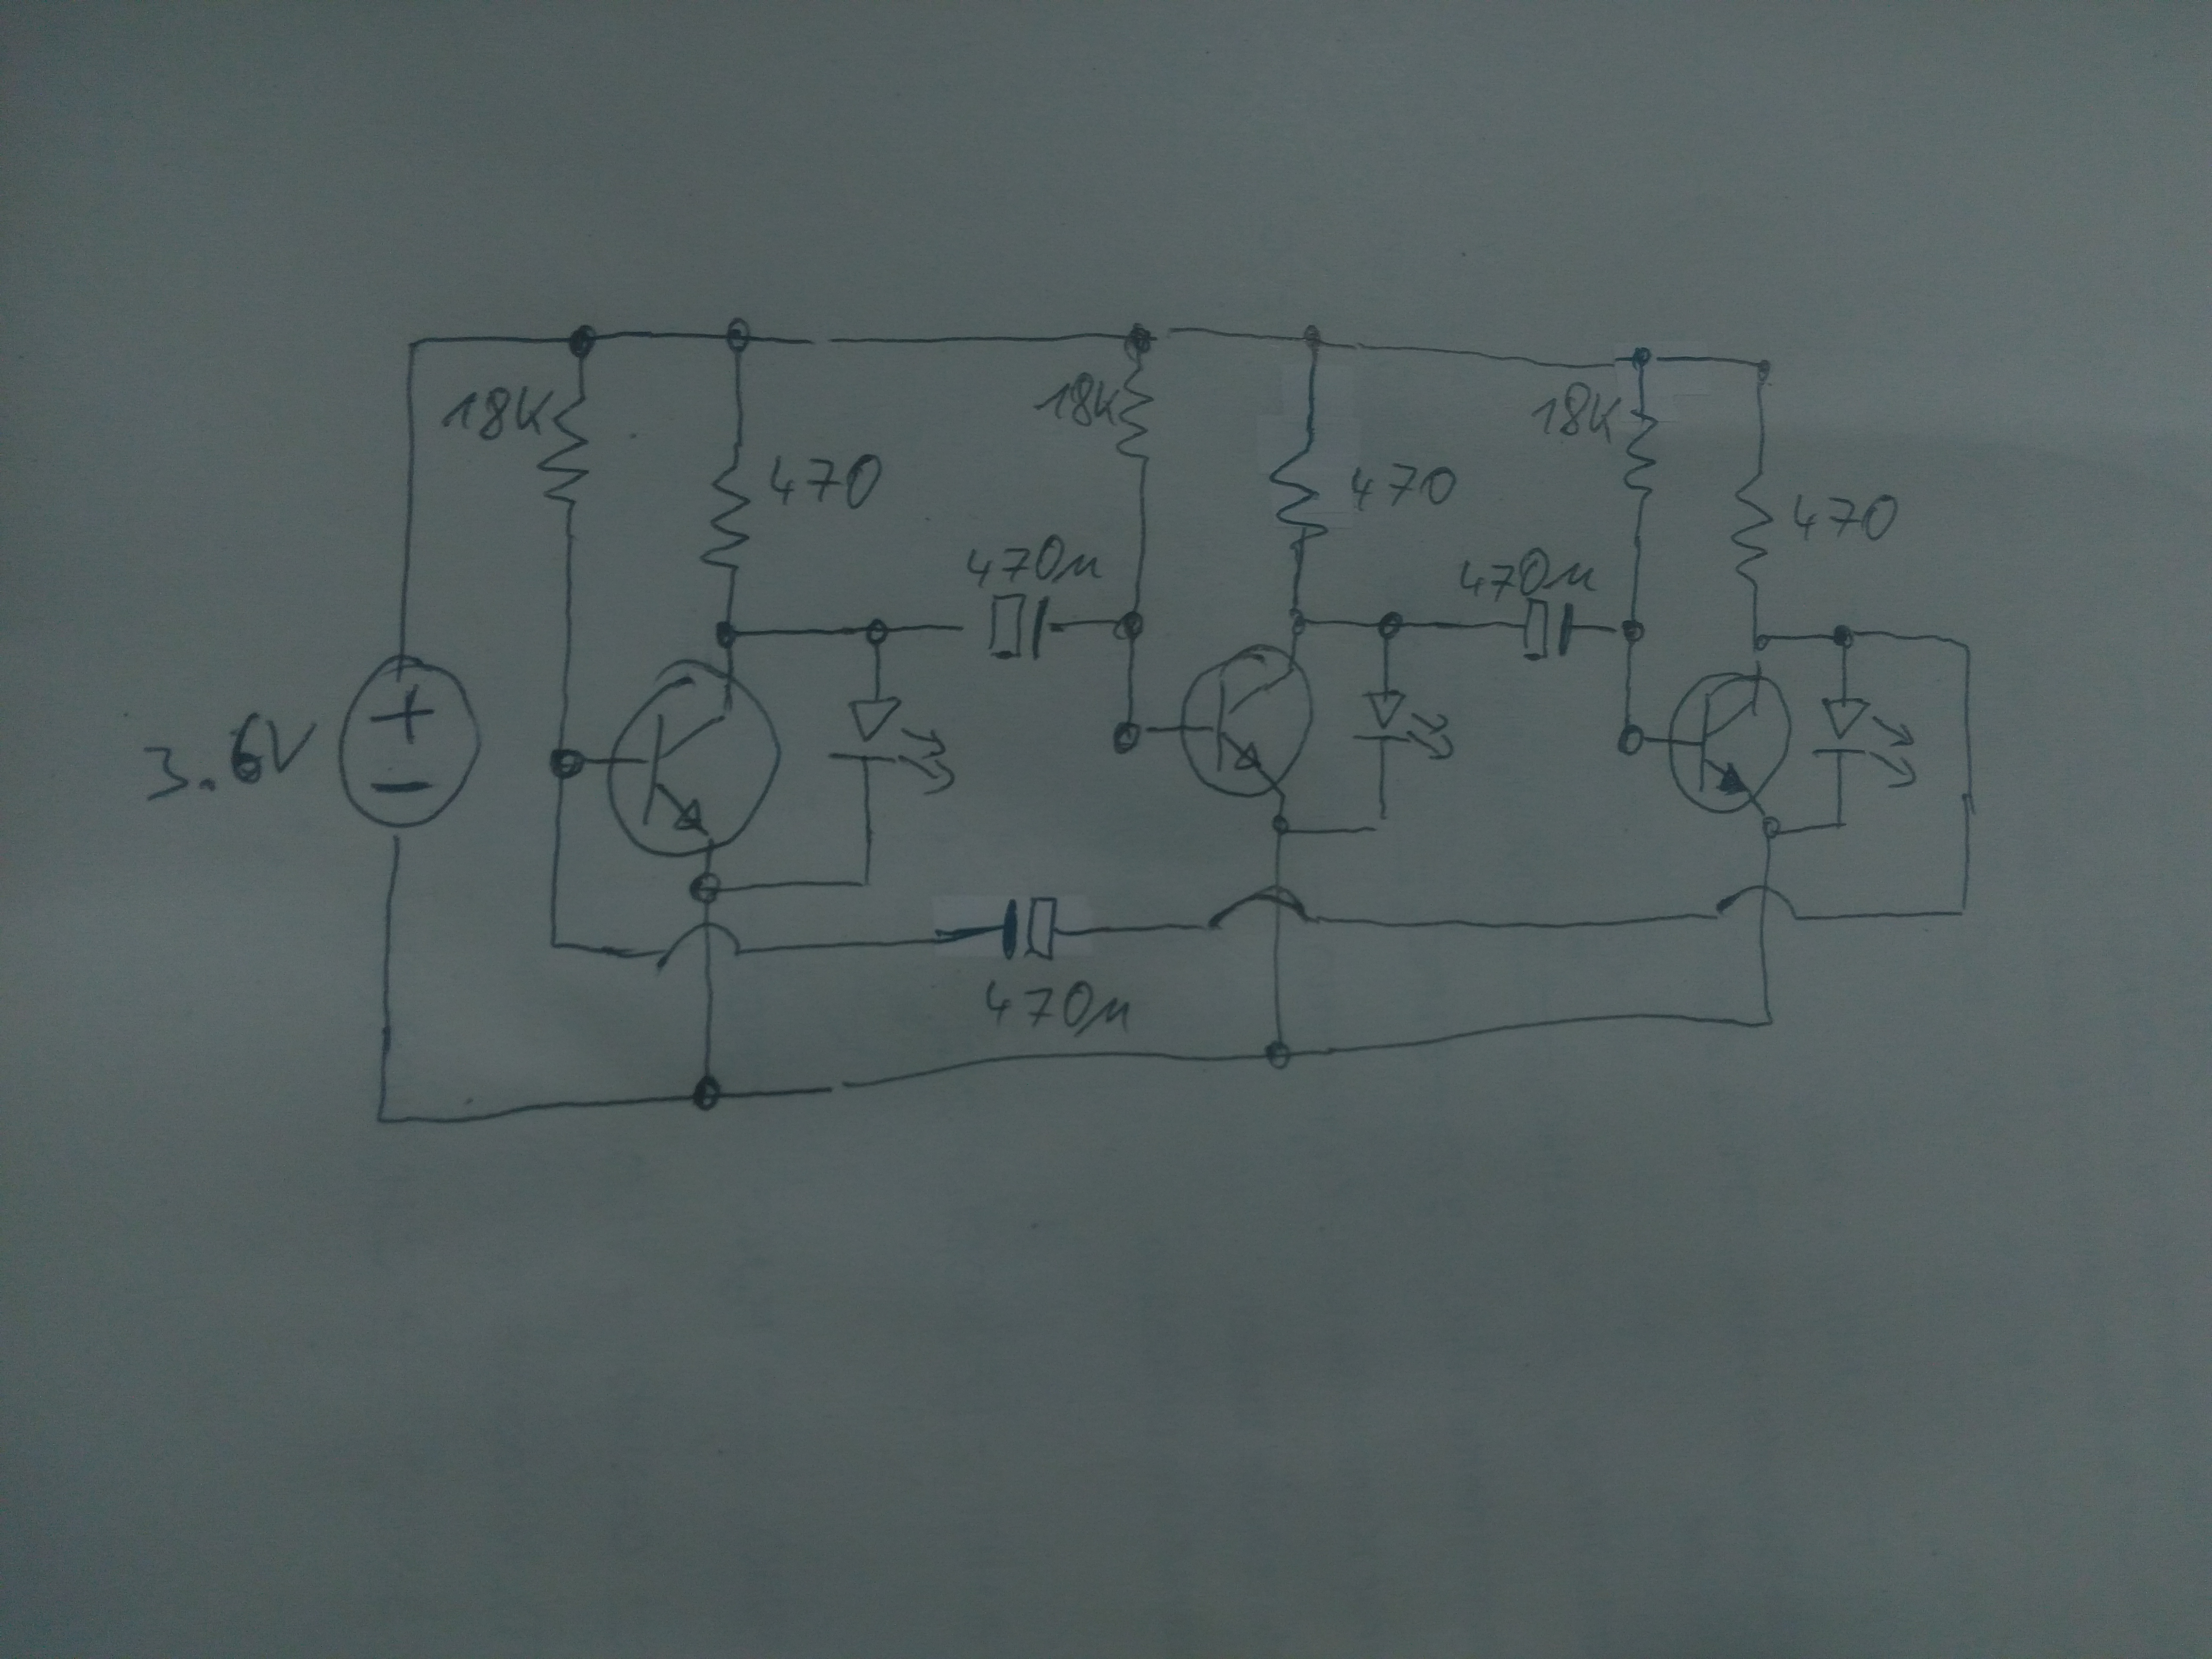capacitor.polarized: (984, 591, 1052, 664), (1000, 894, 1059, 965), (1519, 596, 1578, 666)
crossover: (1200, 878, 1317, 936), (650, 917, 745, 969), (1707, 878, 1804, 927)
diode.light_emitting: (824, 694, 960, 802), (1806, 695, 1919, 789), (1352, 688, 1456, 763)
junction: (545, 742, 587, 782), (685, 868, 725, 908), (719, 314, 758, 355), (1122, 317, 1158, 359), (686, 1073, 723, 1114), (564, 322, 601, 361), (1109, 718, 1146, 756), (1259, 1037, 1298, 1073), (1615, 718, 1646, 758), (1111, 608, 1146, 643), (1371, 608, 1406, 641), (1282, 605, 1315, 638), (711, 617, 742, 652), (862, 613, 892, 648), (1752, 1006, 1784, 1035), (1298, 321, 1327, 350), (852, 866, 881, 896), (1757, 814, 1785, 843), (1620, 617, 1648, 645), (1829, 622, 1857, 650), (1949, 629, 1977, 655), (1629, 345, 1655, 371), (371, 1103, 397, 1129), (540, 929, 566, 955), (1750, 355, 1775, 383), (1270, 812, 1294, 838), (1749, 629, 1773, 653), (1369, 814, 1393, 838), (404, 335, 428, 357), (1951, 899, 1972, 922), (1831, 816, 1848, 833)
resistor: (1266, 437, 1331, 552), (535, 390, 592, 518), (695, 464, 754, 579), (1728, 469, 1778, 589), (1111, 361, 1158, 465), (1622, 403, 1660, 502)
text: (138, 704, 319, 809), (979, 972, 1132, 1039), (1456, 544, 1601, 605), (963, 530, 1104, 591), (766, 448, 888, 512), (441, 385, 559, 443), (1348, 457, 1460, 518), (1529, 380, 1627, 444), (1792, 488, 1902, 544), (1031, 371, 1123, 430)
transistor: (603, 655, 787, 861), (1176, 641, 1317, 802), (1663, 667, 1797, 817)
voltage.dc: (333, 652, 484, 833)
